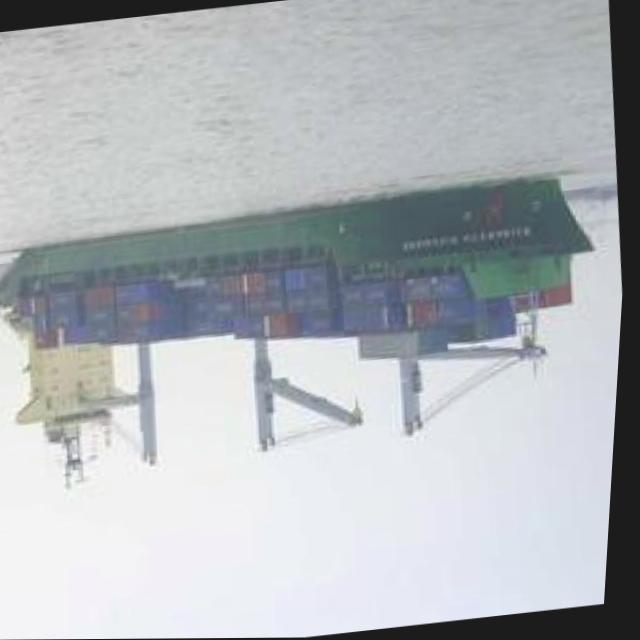ship2: (0, 178, 598, 490)
